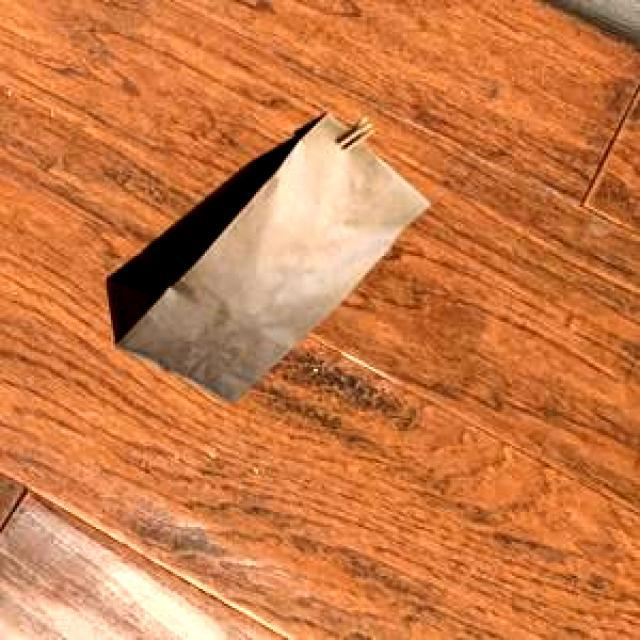Paper_Bag: (103, 110, 426, 400)
